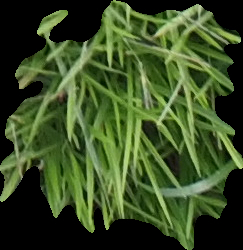grass: (1, 1, 241, 248)
